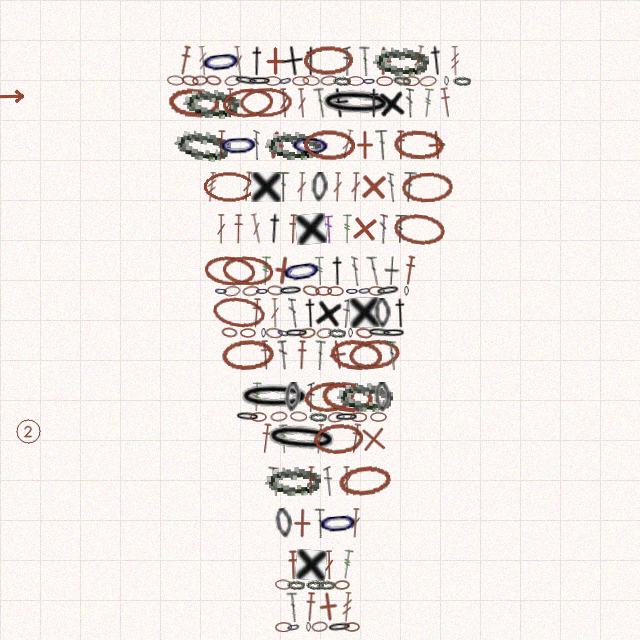chain: (263, 421, 340, 456), (318, 87, 394, 119), (237, 382, 312, 412), (173, 127, 232, 163), (211, 294, 266, 331), (337, 463, 392, 499), (392, 211, 446, 247), (320, 379, 374, 414), (329, 337, 383, 372), (347, 337, 401, 372), (221, 254, 275, 288), (183, 87, 240, 119), (303, 379, 355, 414), (203, 254, 256, 288), (167, 86, 220, 120), (221, 86, 274, 120), (221, 338, 274, 371), (265, 465, 321, 496), (337, 381, 393, 412), (312, 422, 364, 455), (401, 171, 454, 203), (265, 130, 321, 160), (373, 46, 429, 76), (393, 129, 445, 161), (203, 171, 256, 202), (239, 87, 292, 118), (303, 129, 355, 160), (303, 45, 354, 76), (279, 253, 324, 288), (199, 44, 243, 78), (316, 506, 360, 539), (289, 129, 332, 161), (217, 129, 260, 160), (274, 507, 294, 539), (284, 382, 301, 412), (374, 382, 391, 412), (374, 298, 391, 328), (311, 172, 328, 202), (375, 284, 401, 297), (233, 74, 259, 87), (327, 621, 352, 633), (235, 411, 260, 422), (367, 327, 392, 338), (278, 285, 303, 296), (334, 412, 359, 422), (284, 328, 309, 338), (381, 328, 406, 338), (247, 76, 272, 86), (302, 284, 320, 297), (181, 74, 199, 87), (224, 74, 242, 87), (205, 74, 222, 87), (327, 411, 345, 423), (265, 327, 283, 339), (298, 327, 316, 339), (355, 327, 373, 339), (223, 285, 241, 297), (242, 285, 260, 297), (419, 75, 437, 87), (316, 327, 333, 339), (270, 411, 288, 422), (302, 75, 320, 86), (320, 75, 338, 86), (393, 75, 411, 86), (278, 74, 293, 87), (311, 621, 328, 632), (275, 579, 292, 590), (290, 411, 307, 422), (221, 327, 238, 338), (267, 285, 284, 296), (167, 75, 184, 86), (286, 621, 301, 633), (287, 580, 305, 590), (306, 580, 324, 590), (317, 580, 335, 590), (309, 412, 327, 422), (276, 327, 291, 339), (328, 328, 346, 338), (333, 76, 351, 86), (453, 76, 471, 86), (192, 75, 208, 86), (275, 622, 292, 632), (250, 412, 267, 422), (350, 412, 367, 422), (370, 412, 387, 422), (315, 286, 332, 296), (327, 286, 344, 296), (368, 286, 385, 296), (264, 76, 281, 86), (292, 76, 309, 86), (347, 76, 364, 86), (376, 76, 393, 86), (403, 76, 420, 86), (357, 285, 372, 296), (344, 622, 360, 632), (334, 580, 350, 590), (240, 328, 256, 338), (214, 286, 228, 296), (255, 286, 269, 296), (345, 286, 359, 296), (362, 76, 376, 86), (306, 622, 311, 632), (261, 328, 266, 338), (348, 328, 353, 338), (404, 286, 409, 296), (444, 76, 449, 86)
double: (366, 255, 382, 286), (339, 129, 355, 160), (249, 213, 264, 244), (402, 172, 417, 202), (375, 130, 390, 160), (313, 87, 327, 118), (412, 45, 426, 76), (385, 340, 399, 370), (241, 171, 254, 202), (286, 592, 299, 622), (268, 466, 281, 496), (313, 424, 326, 454), (277, 340, 290, 370), (313, 340, 326, 370), (394, 214, 407, 244), (277, 172, 290, 202), (232, 46, 245, 76), (278, 88, 290, 118), (296, 88, 308, 118), (314, 508, 325, 538), (350, 508, 361, 538), (323, 466, 334, 496), (323, 214, 334, 244), (296, 172, 307, 202), (332, 172, 343, 202), (350, 172, 361, 202), (359, 46, 370, 76), (324, 550, 334, 580), (306, 466, 316, 496), (342, 466, 352, 496), (270, 298, 280, 328), (288, 298, 298, 328), (342, 298, 352, 328), (216, 214, 226, 244), (378, 214, 388, 244), (225, 88, 235, 118), (351, 256, 360, 286), (387, 172, 396, 202), (405, 88, 414, 118), (307, 382, 315, 412), (343, 46, 351, 76), (253, 130, 260, 160)
half_double: (265, 213, 284, 244), (427, 45, 446, 76), (365, 88, 383, 118), (248, 46, 266, 76), (302, 46, 320, 76), (302, 298, 319, 328), (392, 298, 409, 328), (329, 256, 346, 286), (438, 87, 454, 118), (177, 45, 193, 76), (348, 423, 363, 454), (402, 255, 417, 286), (259, 423, 273, 454), (304, 592, 317, 622), (259, 340, 272, 370), (250, 298, 263, 328), (287, 550, 299, 580), (296, 340, 308, 370), (287, 214, 299, 244), (215, 130, 227, 160), (233, 214, 244, 244), (395, 130, 406, 160)
noise: (14, 417, 42, 445), (0, 89, 26, 103)
single: (258, 128, 292, 162), (312, 590, 345, 623), (321, 338, 354, 371), (267, 254, 300, 287), (348, 212, 381, 245), (313, 296, 345, 330), (295, 549, 327, 581), (295, 213, 327, 245), (421, 129, 453, 161), (358, 423, 389, 455), (349, 297, 380, 328), (358, 171, 389, 202), (377, 87, 407, 119), (287, 508, 317, 538), (251, 172, 281, 202), (350, 130, 380, 160), (260, 46, 290, 76), (368, 46, 398, 76), (279, 45, 306, 77), (325, 87, 351, 119), (384, 256, 400, 286)
treble: (340, 549, 354, 580), (421, 88, 435, 118), (205, 172, 218, 202), (341, 592, 353, 622), (314, 256, 326, 286), (197, 46, 209, 76), (278, 424, 289, 454), (251, 382, 262, 412), (260, 256, 271, 286), (342, 214, 352, 244), (450, 46, 460, 76)
